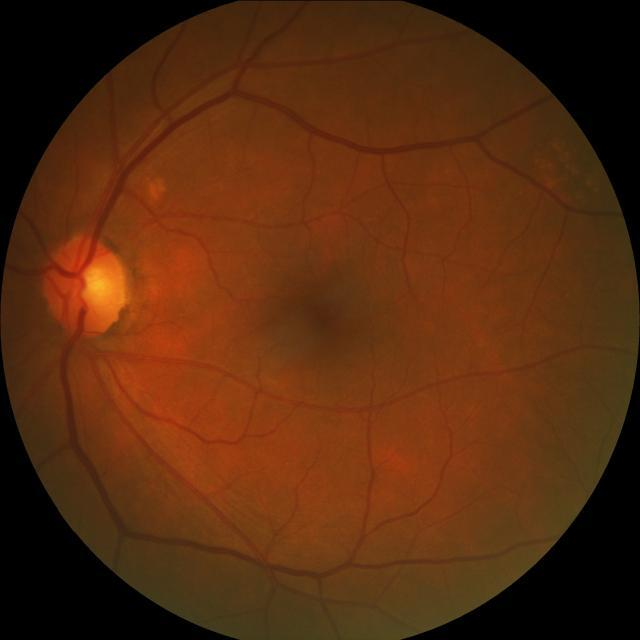OC: (75, 265, 108, 299)
OD: (44, 234, 130, 336)
